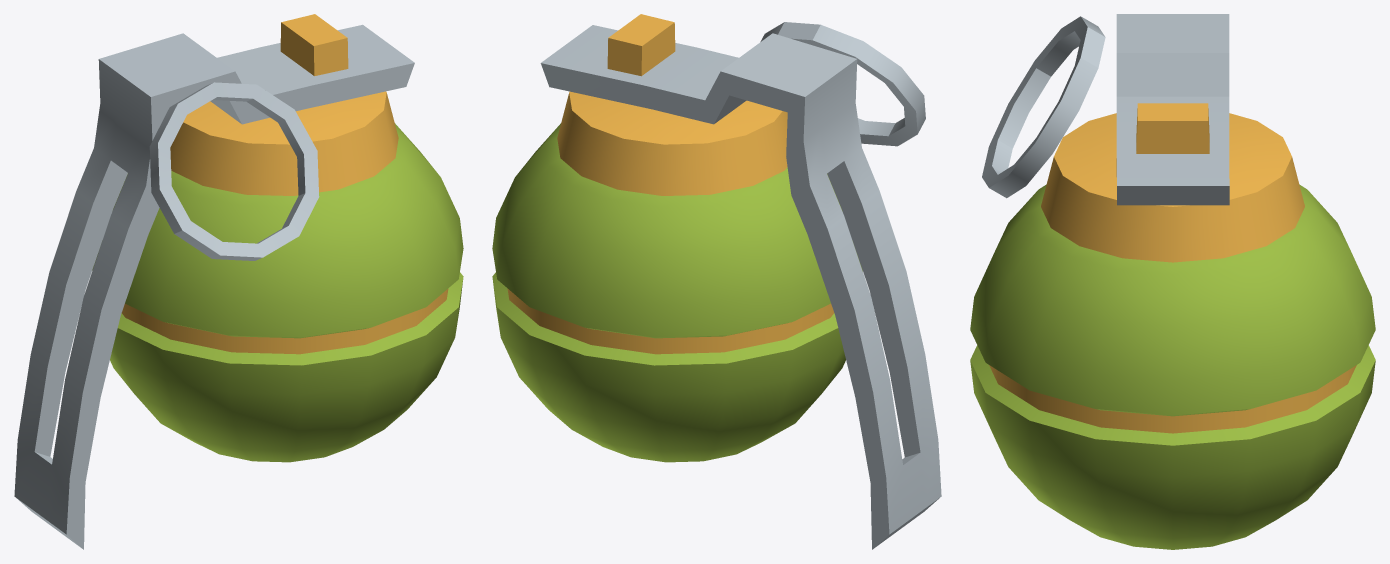
File: grenade.glb
3 renders of one model, left to right at view 1: azimuth 30°, elevation 25°; view 2: azimuth 150°, elevation 25°; view 3: azimuth 270°, elevation 25°, orthographic. The views are drawn at different scales.
Parts seen in each view (by area): view 1: Grenade; view 2: Grenade; view 3: Grenade.
Boxes of the visible parts, x1,y1,x2,y2 form: Grenade: (14,14,463,549); Grenade: (492,14,941,549); Grenade: (970,14,1375,549).
Bounding box in the file's own units: 0.5637 × 0.6051 × 0.459.
